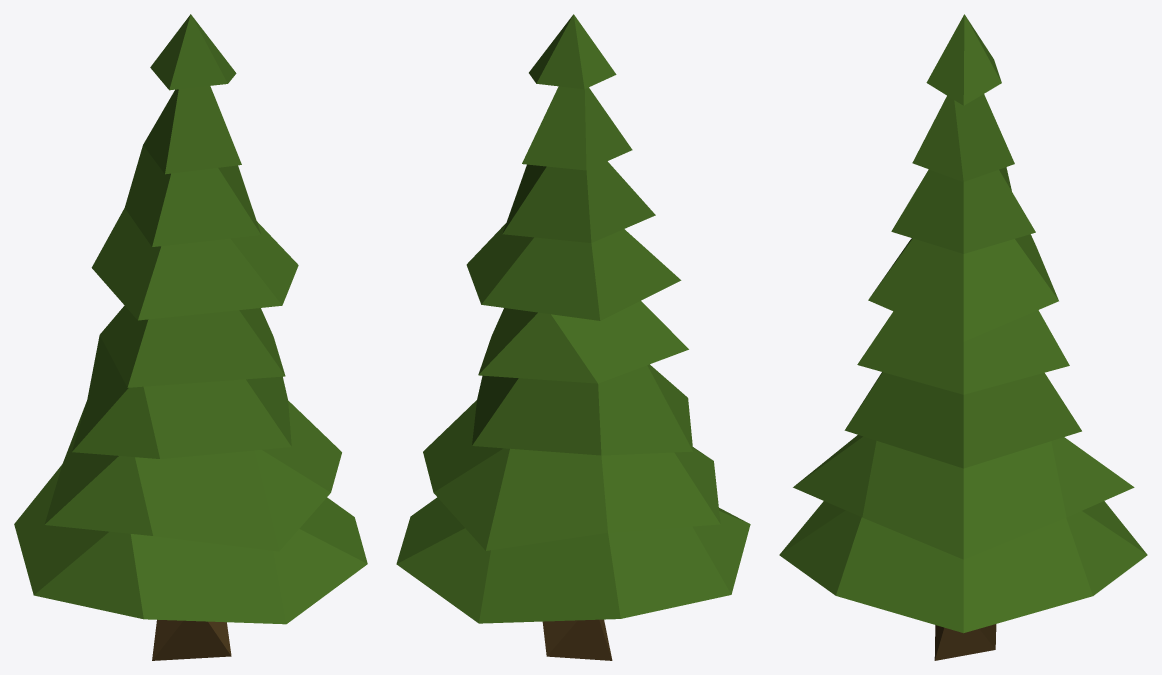
Rendered from pinetree.fbx.
3 renders of one model, left to right at view 1: azimuth 30°, elevation 25°; view 2: azimuth 150°, elevation 25°; view 3: azimuth 270°, elevation 25°, orthographic.
Visible parts, largest first — view 1: leafs; view 2: leafs; view 3: leafs.
Boxes of the visible parts, x1=… form: leafs: x1=14, y1=14, x2=367, y2=660; leafs: x1=396, y1=14, x2=750, y2=660; leafs: x1=779, y1=14, x2=1147, y2=660.
Size of the model in its own units: 511 by 971 by 511.
